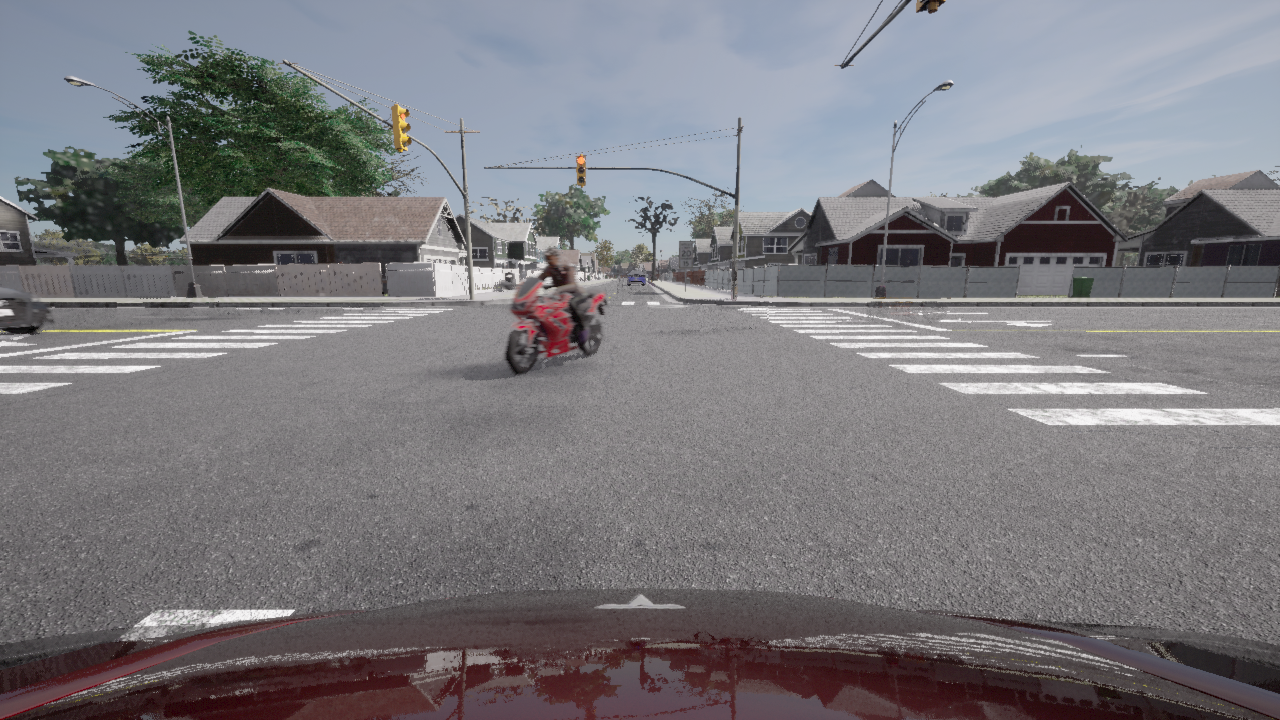cyclist: (0, 588, 1279, 719), (501, 276, 608, 375), (627, 271, 644, 285)
pedestrian: (339, 262, 342, 263)
